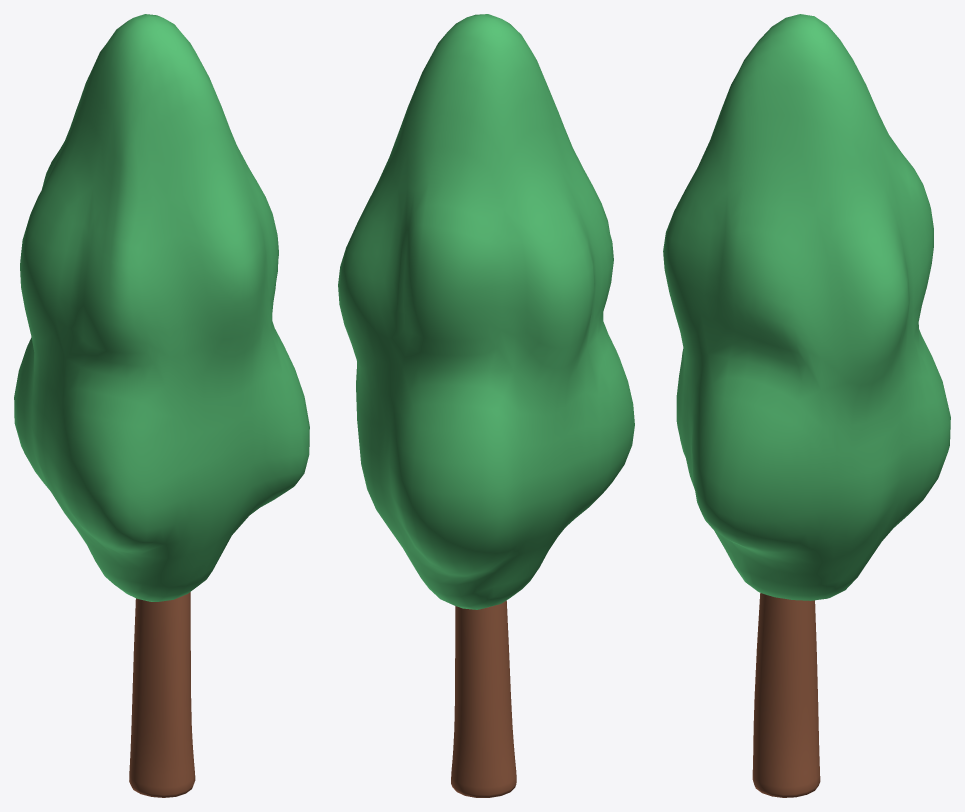
Rendered from Tree_E_03.fbx.
The picture shows the model from 3 angles, left to right: view 1: azimuth 30°, elevation 25°; view 2: azimuth 150°, elevation 25°; view 3: azimuth 270°, elevation 25°; orthographic projection.
Parts seen in each view (by area): view 1: Tree_E_03_LOD0; view 2: Tree_E_03_LOD0; view 3: Tree_E_03_LOD0.
Boxes of the visible parts, x1=… form: Tree_E_03_LOD0: x1=14, y1=14, x2=309, y2=797; Tree_E_03_LOD0: x1=338, y1=14, x2=634, y2=797; Tree_E_03_LOD0: x1=663, y1=14, x2=950, y2=797.
Size of what is drawn, in the model's own units: 448 by 1386 by 472.
